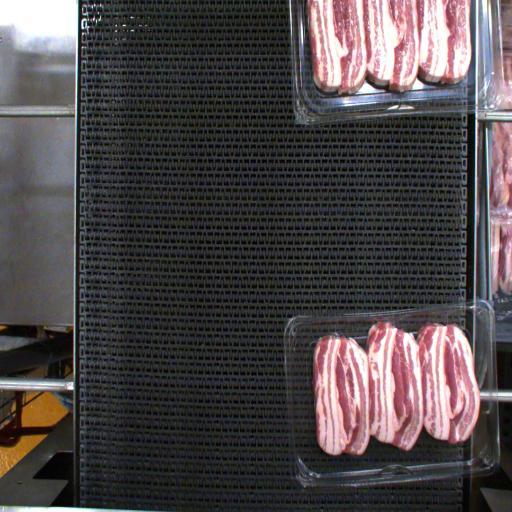packaging-error: (317, 330, 346, 342)
